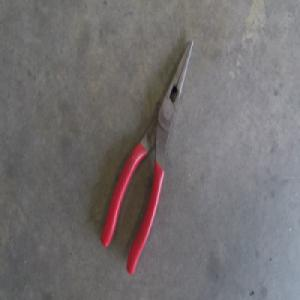Pliers: (103, 35, 193, 269)
